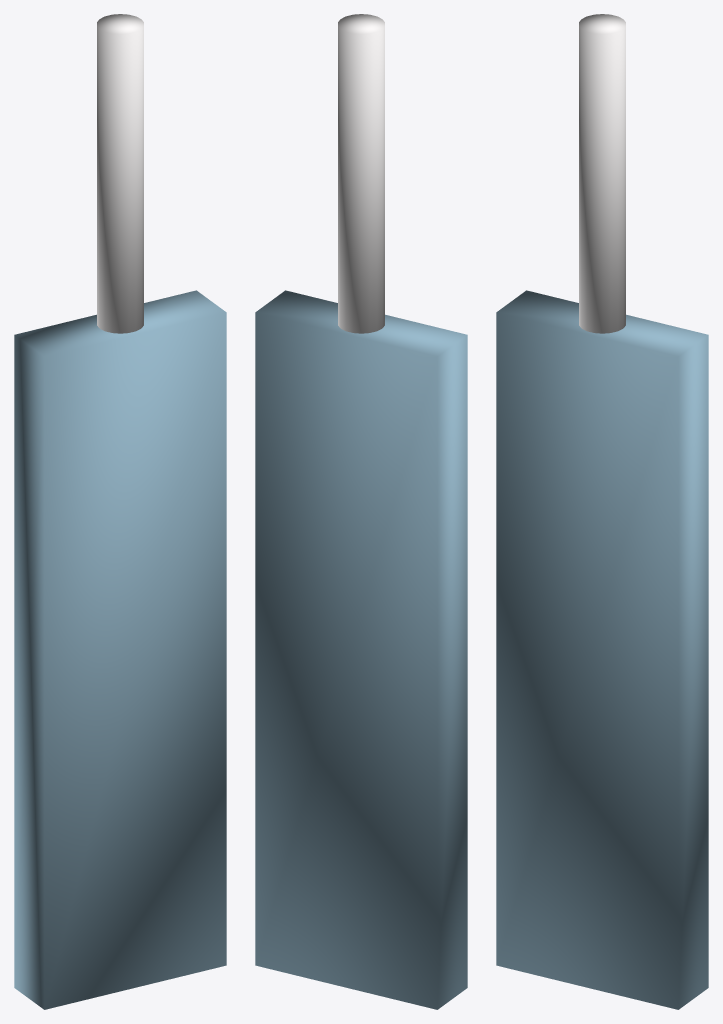
The model's file is cricket_bat.glb.
The picture shows the model from 3 angles, left to right: view 1: azimuth 30°, elevation 25°; view 2: azimuth 150°, elevation 25°; view 3: azimuth 330°, elevation 25°; orthographic projection.
Visible parts, largest first — view 1: blade, handle; view 2: blade, handle; view 3: blade, handle.
Part boxes in pixels (x1,y1,x2,y2): blade: (14,290,226,1009); handle: (97,14,143,333); blade: (255,290,467,1009); handle: (338,14,384,333); blade: (496,290,708,1009); handle: (579,14,625,333).
Size of the model in its own units: 0.35 by 1.75 by 0.1.
